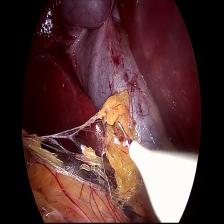Hook: (112, 115, 196, 224)
